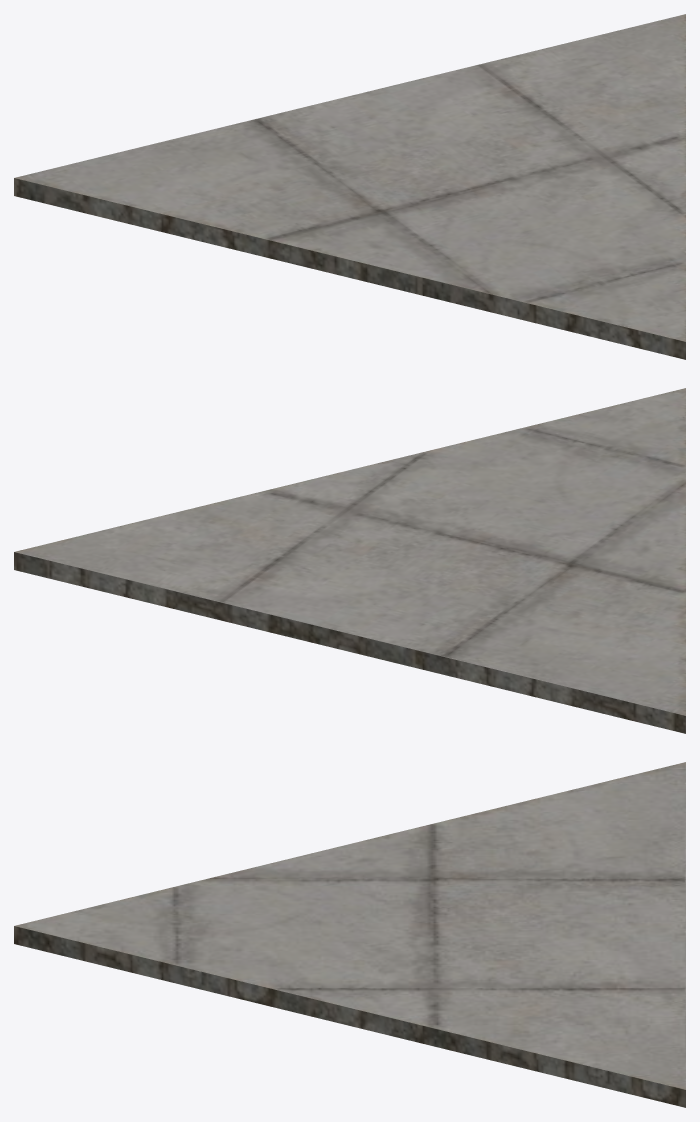
Rendered from stone_floor_triangle_textured.glb.
3 views of the same model, one above another, from view 1: azimuth 30°, elevation 25°; view 2: azimuth 150°, elevation 25°; view 3: azimuth 270°, elevation 25° (orthographic).
Parts seen in each view (by area): view 1: Circle; view 2: Circle; view 3: Circle.
Part boxes in pixels (bbox=[...]): Circle: bbox=[14, 14, 685, 359]; Circle: bbox=[14, 388, 685, 733]; Circle: bbox=[14, 762, 685, 1107].
Size of the model in its own units: 2 by 0.0512 by 1.73.
Materials: 1 (1 with a texture image).
